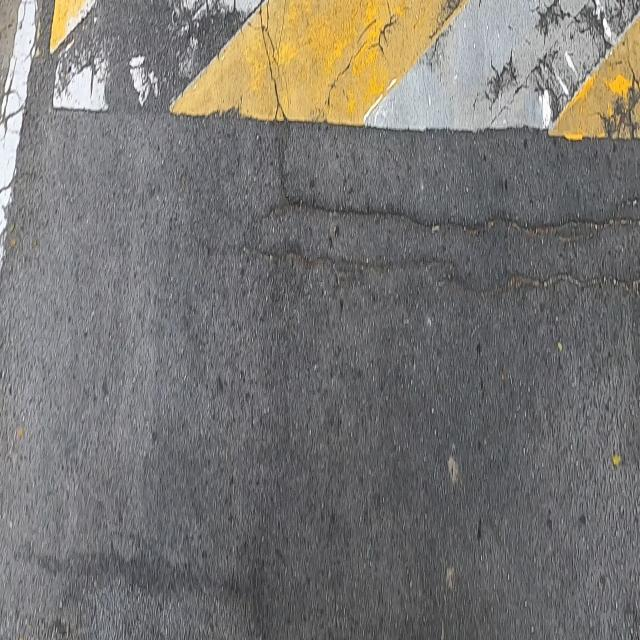Retak-Melintang: (239, 240, 640, 302), (271, 195, 640, 240)
